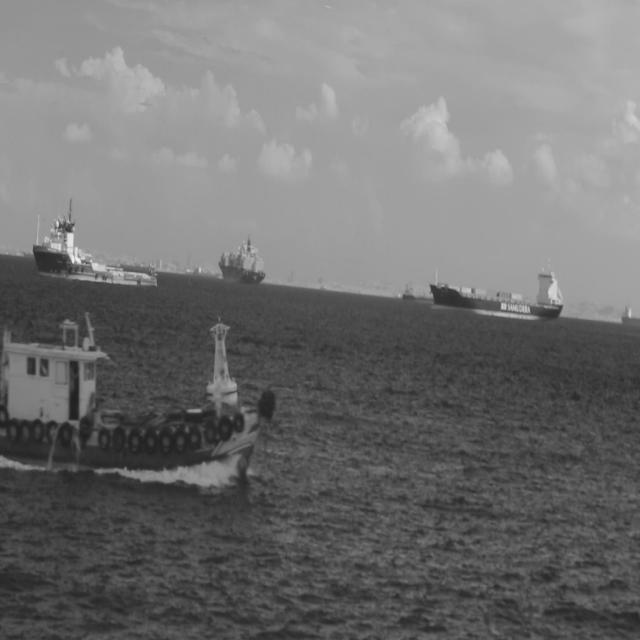buoy: (204, 315, 238, 408)
ship: (0, 308, 277, 489), (31, 195, 159, 289), (428, 255, 564, 322), (218, 232, 266, 286), (402, 280, 434, 304), (186, 262, 222, 280), (120, 259, 155, 272), (145, 267, 157, 276)
